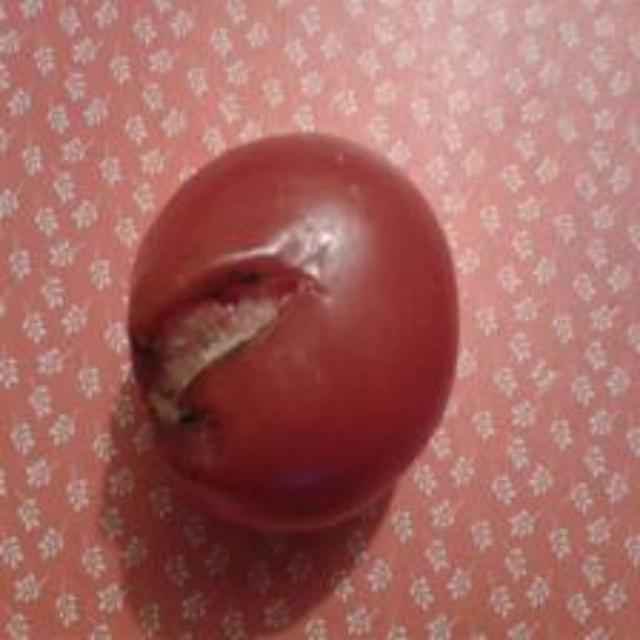defect: (123, 125, 464, 538)
